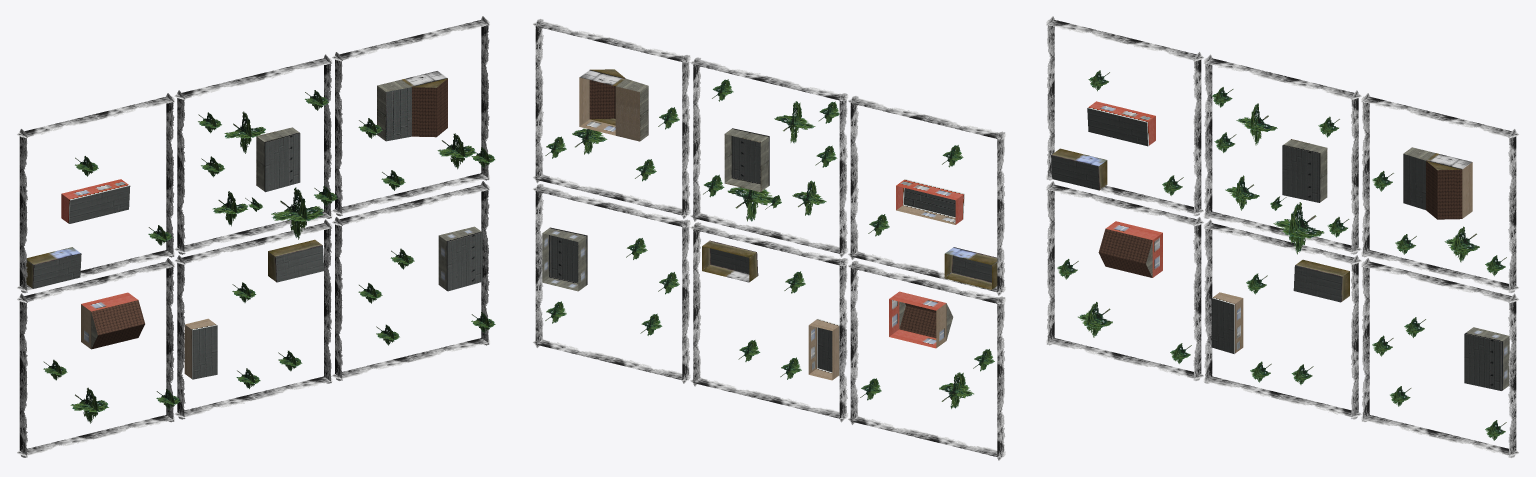
File: arbor_sixpack.obj
The picture shows the model from 3 angles, left to right: view 1: azimuth 30°, elevation 25°; view 2: azimuth 150°, elevation 25°; view 3: azimuth 330°, elevation 25°; orthographic projection.
Parts seen in each view (by area): view 1: Object; view 2: Object; view 3: Object.
Boxes of the visible parts, box(x1,y1,x2,y2) form: Object: box(17, 16, 495, 457); Object: box(532, 19, 1005, 460); Object: box(1046, 16, 1519, 457).
Size of the model in its own units: 60 by 40 by 7.69.
